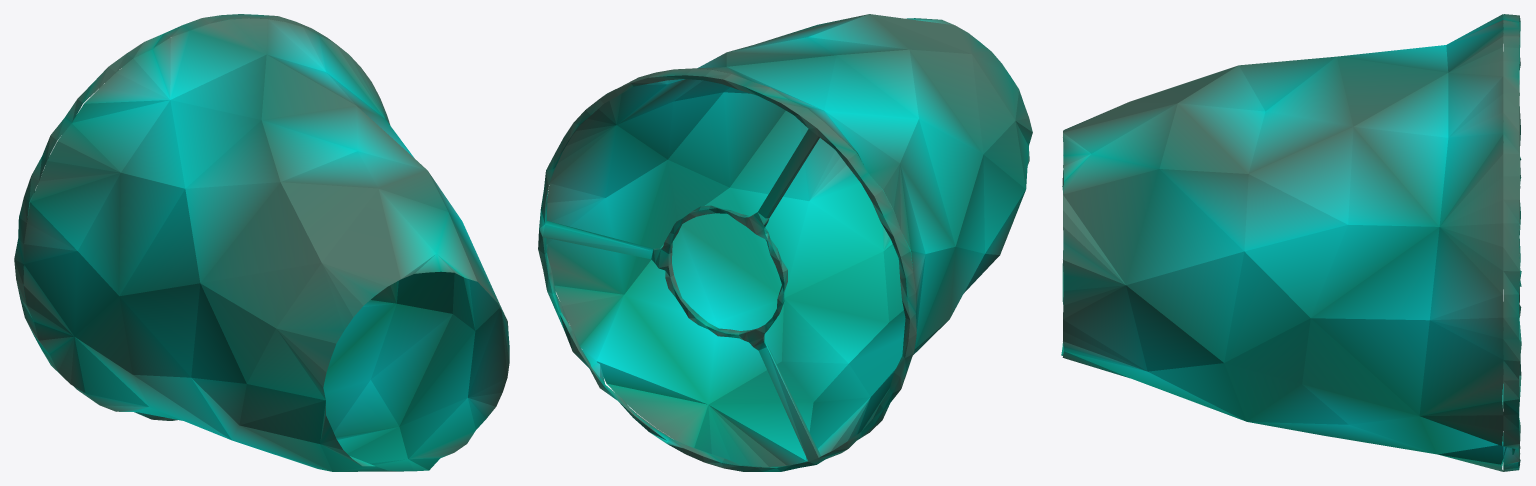
The model's file is lamp_shade_2_final100.obj.
The picture shows the model from 3 angles, left to right: view 1: azimuth 30°, elevation 25°; view 2: azimuth 150°, elevation 25°; view 3: azimuth 270°, elevation 25°; orthographic projection. The views are drawn at different scales.
Bounding box in the file's own units: 1.1 × 1.1 × 1.11.
